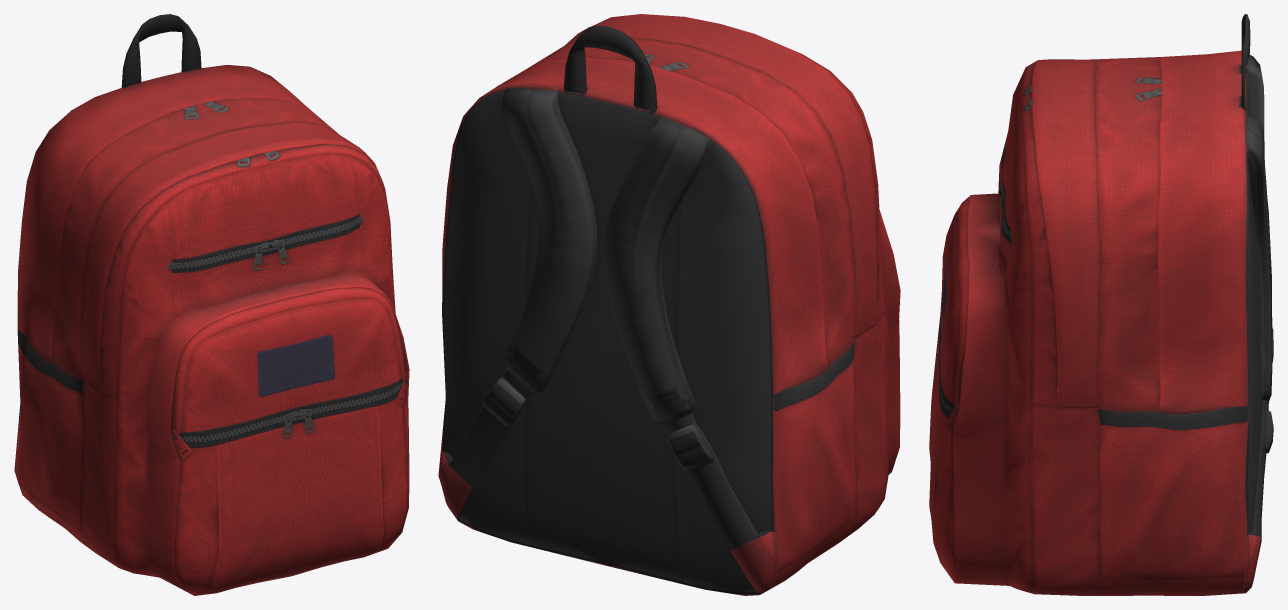
Rendered from backpack.dae.
3 renders of one model, left to right at view 1: azimuth 30°, elevation 25°; view 2: azimuth 150°, elevation 25°; view 3: azimuth 270°, elevation 25°, orthographic. The views are drawn at different scales.
Parts seen in each view (by area): view 1: Backpack; view 2: Backpack; view 3: Backpack.
Part boxes in pixels (x1,y1,x2,y2): Backpack: [14, 14, 409, 595]; Backpack: [438, 14, 900, 595]; Backpack: [929, 14, 1273, 595].
Bounding box in the file's own units: 32.84 × 28.65 × 47.43.
Materials: 1 (1 with a texture image).
